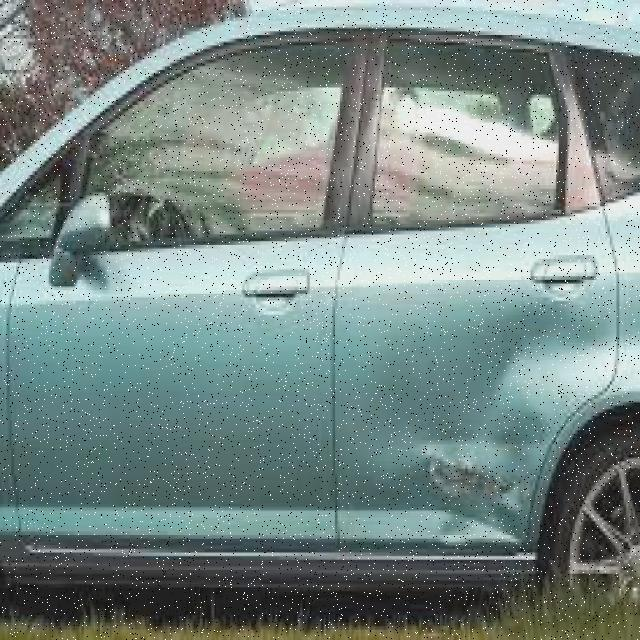car damage: (415, 298, 612, 555)
